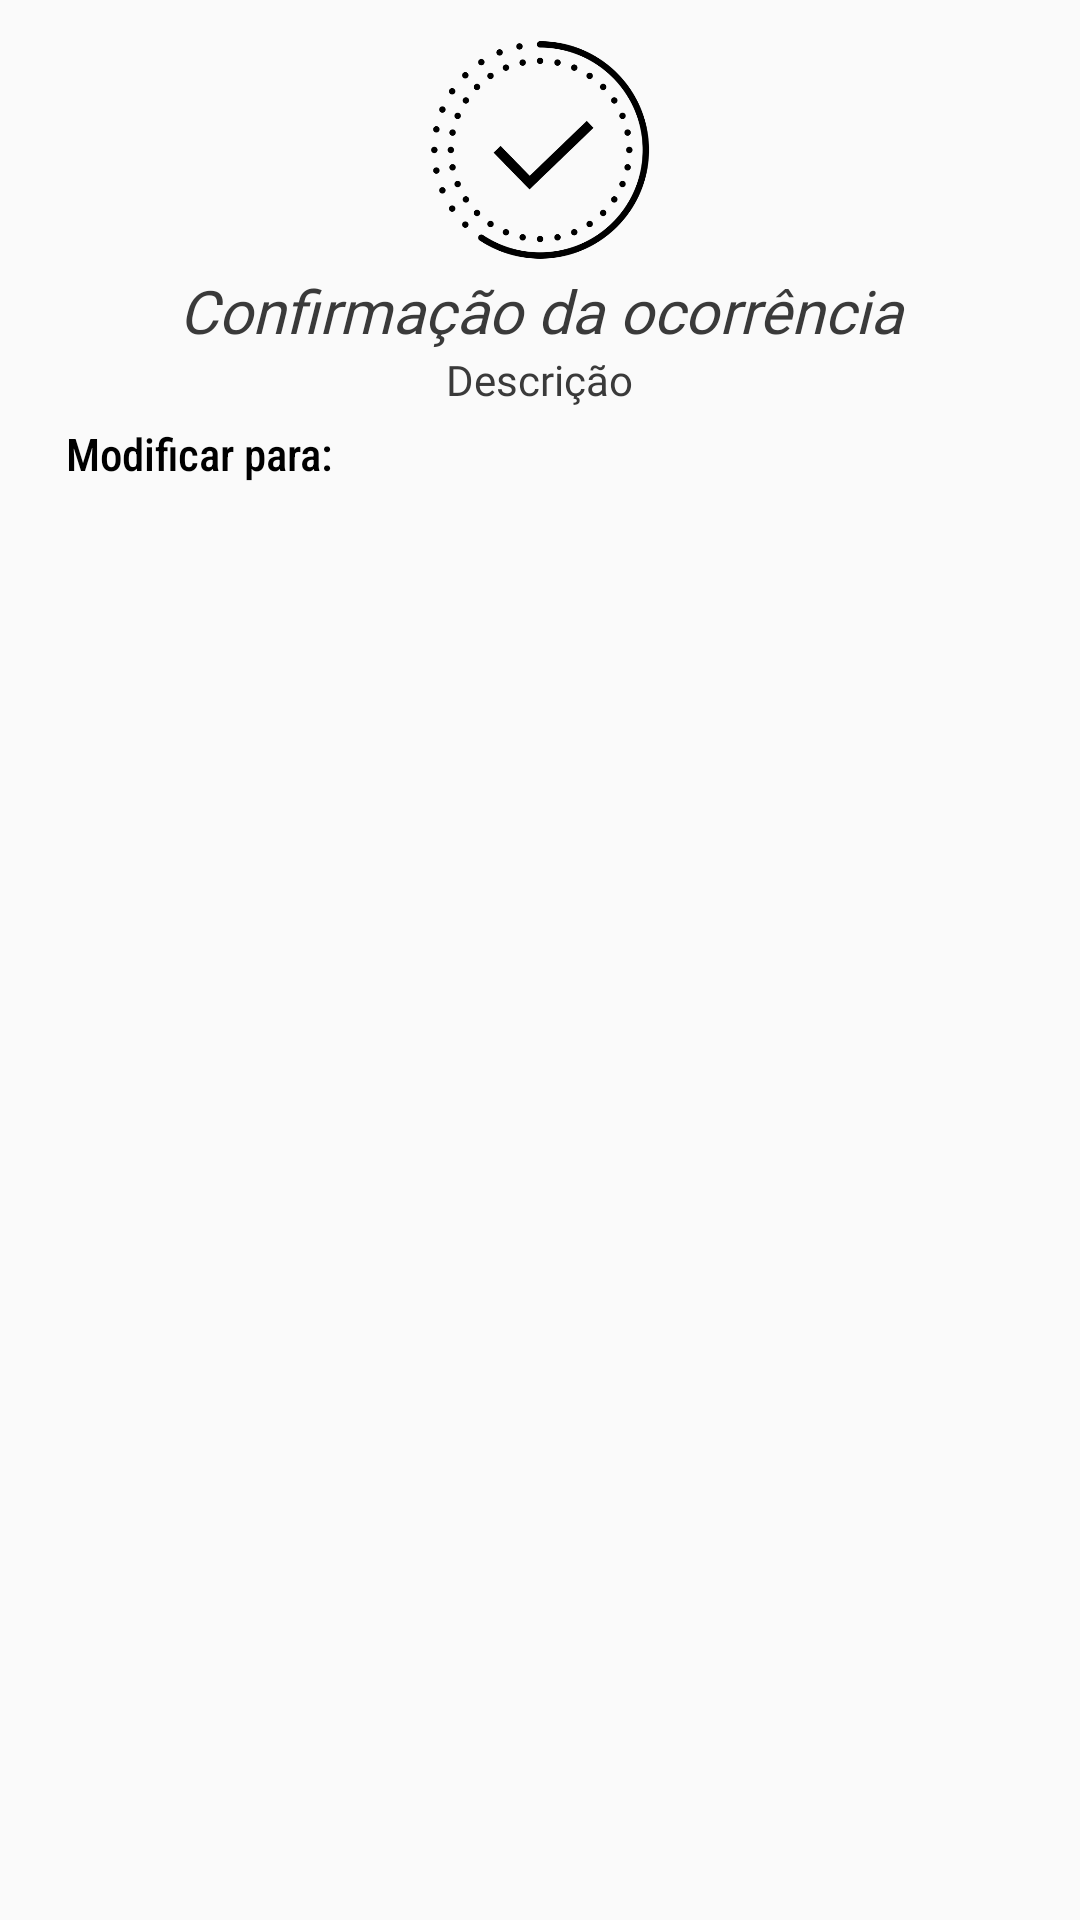

Screen size 1080px×1920px. Icon name, then its center in pixels as (x,y):
verification dialog: (540,150)
